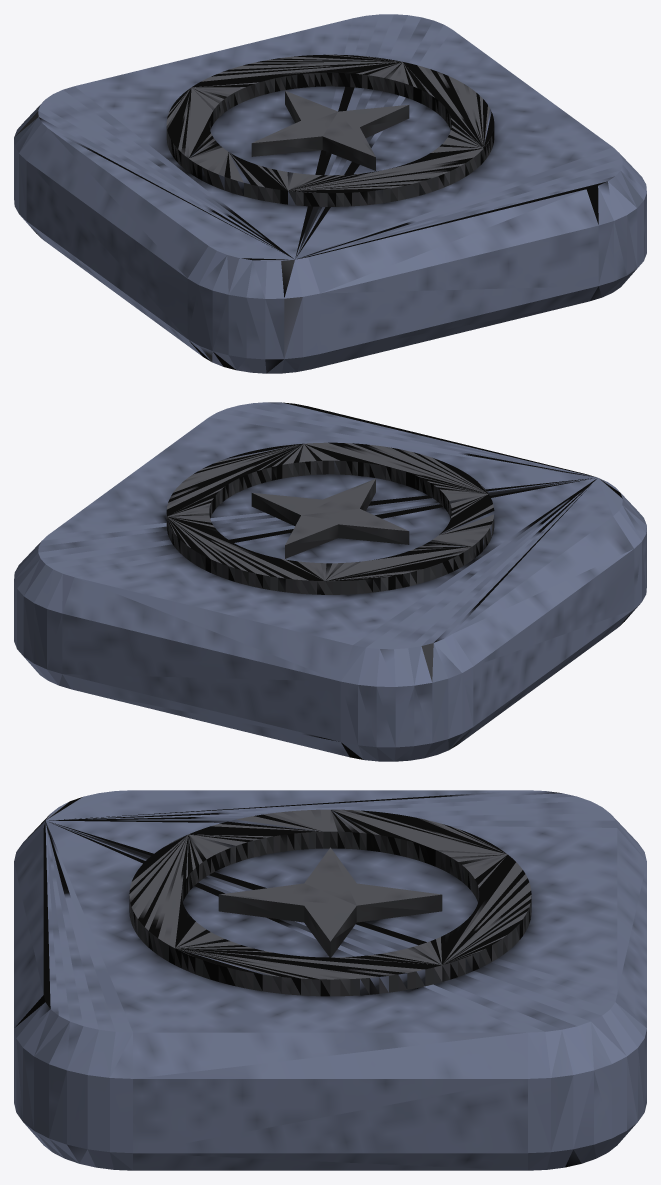
File: Tile_Corner.glb
3 renders of one model, top to bottom at view 1: azimuth 30°, elevation 25°; view 2: azimuth 150°, elevation 25°; view 3: azimuth 270°, elevation 25°, orthographic. The views are drawn at different scales.
Visible parts, largest first — view 1: Body, Motif_Ring, Motif_Star4; view 2: Body, Motif_Ring, Motif_Star4; view 3: Body, Motif_Ring, Motif_Star4.
Part boxes in pixels (box(x1,y1,x2,y2)): Body: box(14, 14, 646, 373); Motif_Ring: box(166, 54, 494, 206); Motif_Star4: box(251, 91, 409, 170); Body: box(14, 402, 646, 761); Motif_Ring: box(166, 442, 494, 594); Motif_Star4: box(251, 479, 409, 558); Body: box(14, 790, 646, 1170); Motif_Ring: box(129, 809, 531, 996); Motif_Star4: box(218, 847, 442, 957).
Size of the model in its own units: 0.85 by 0.225 by 0.85.
Materials: 2 (2 with a texture image).
